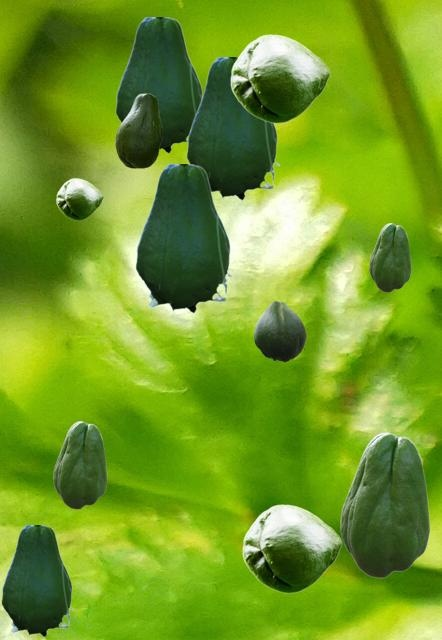sayote: (135, 164, 232, 315), (186, 57, 279, 202), (340, 432, 429, 577), (115, 17, 202, 154), (242, 504, 341, 592), (230, 34, 329, 122), (1, 525, 73, 638), (53, 421, 106, 508), (115, 93, 161, 167), (254, 301, 305, 361), (369, 223, 410, 291), (56, 178, 102, 219)
